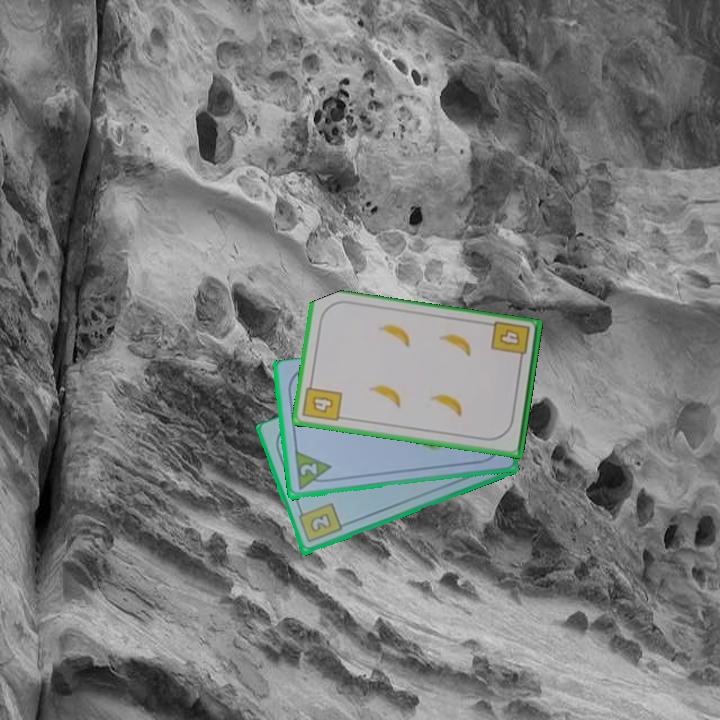2b: (295, 500, 344, 546)
2p: (296, 460, 320, 479)
4b: (488, 318, 533, 367), (299, 377, 345, 424)
